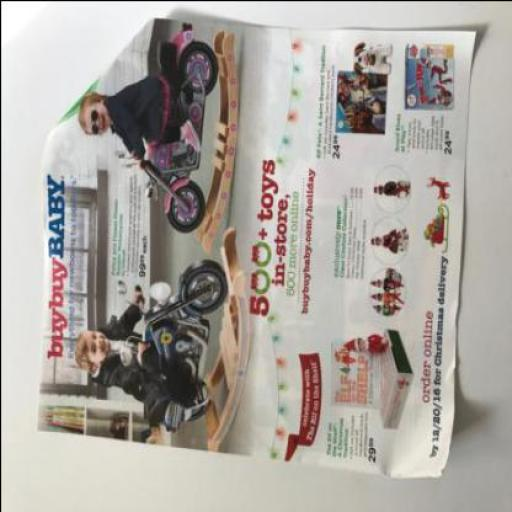paper: (36, 15, 474, 476)
